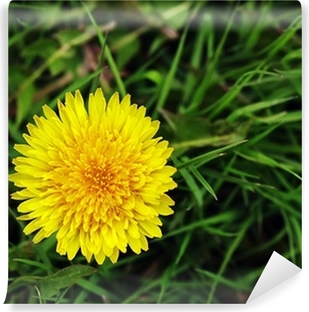dandelion: (19, 112, 167, 241)
